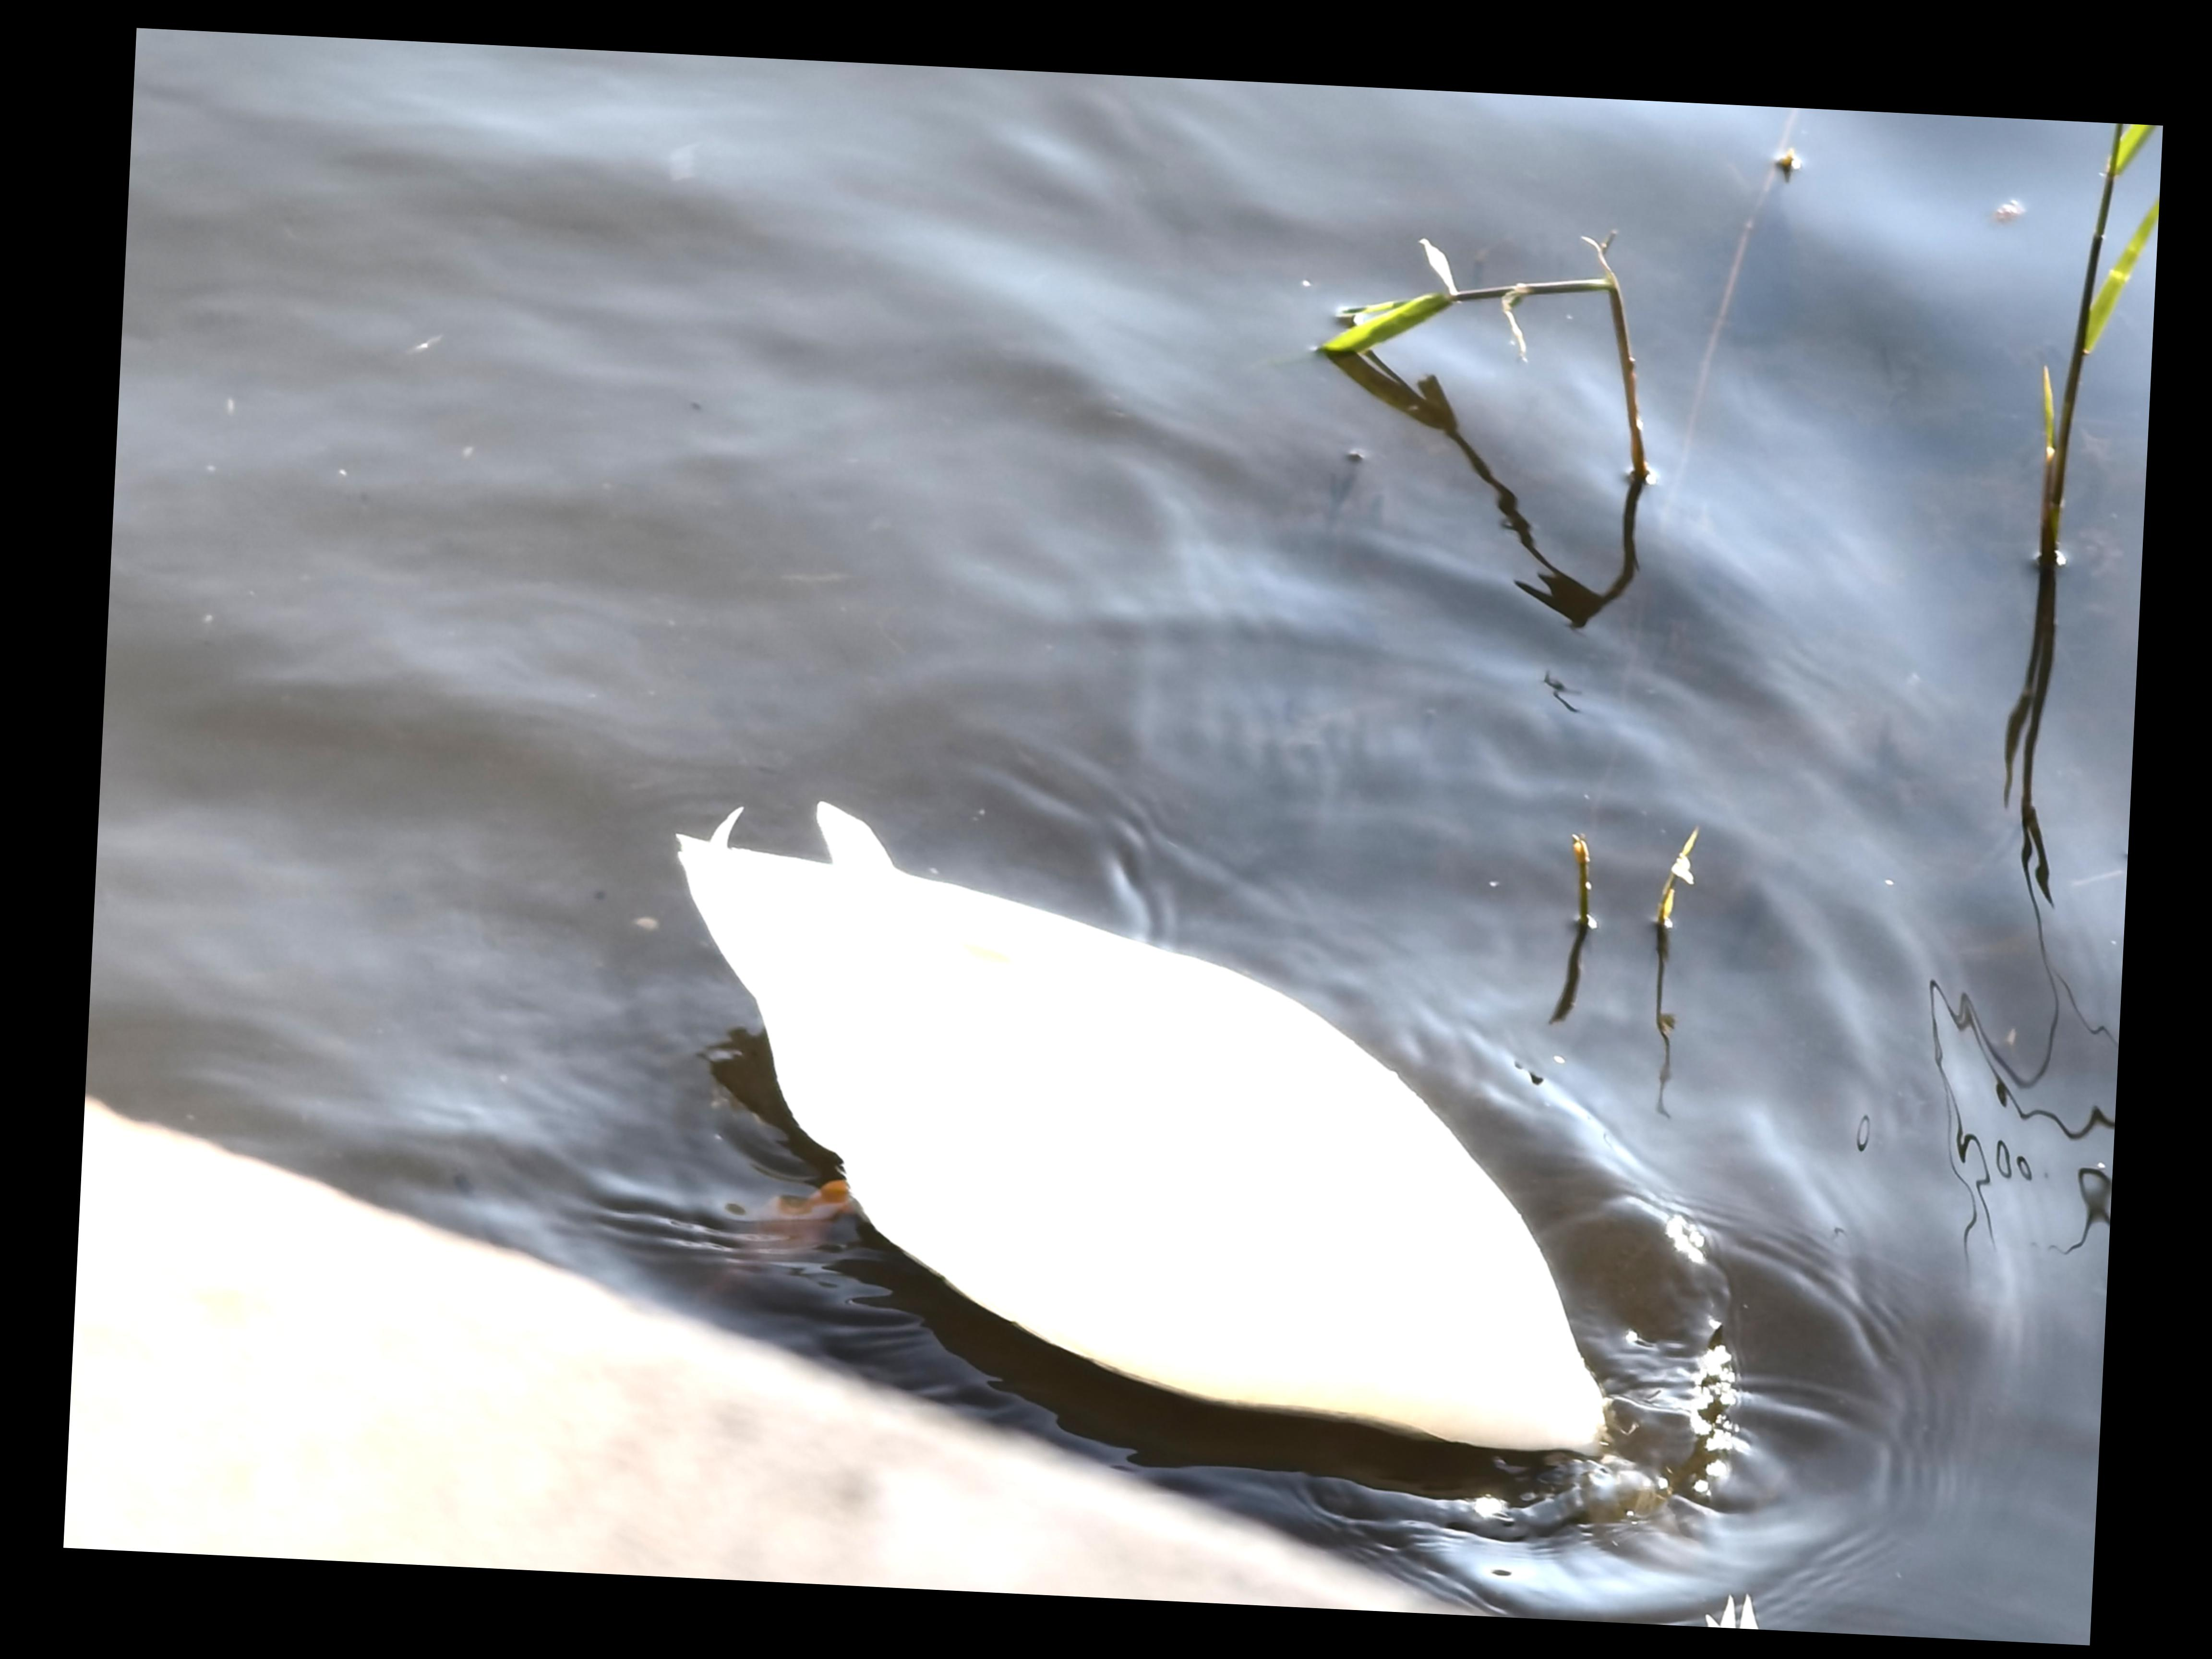duck: (603, 775, 1674, 1504)
